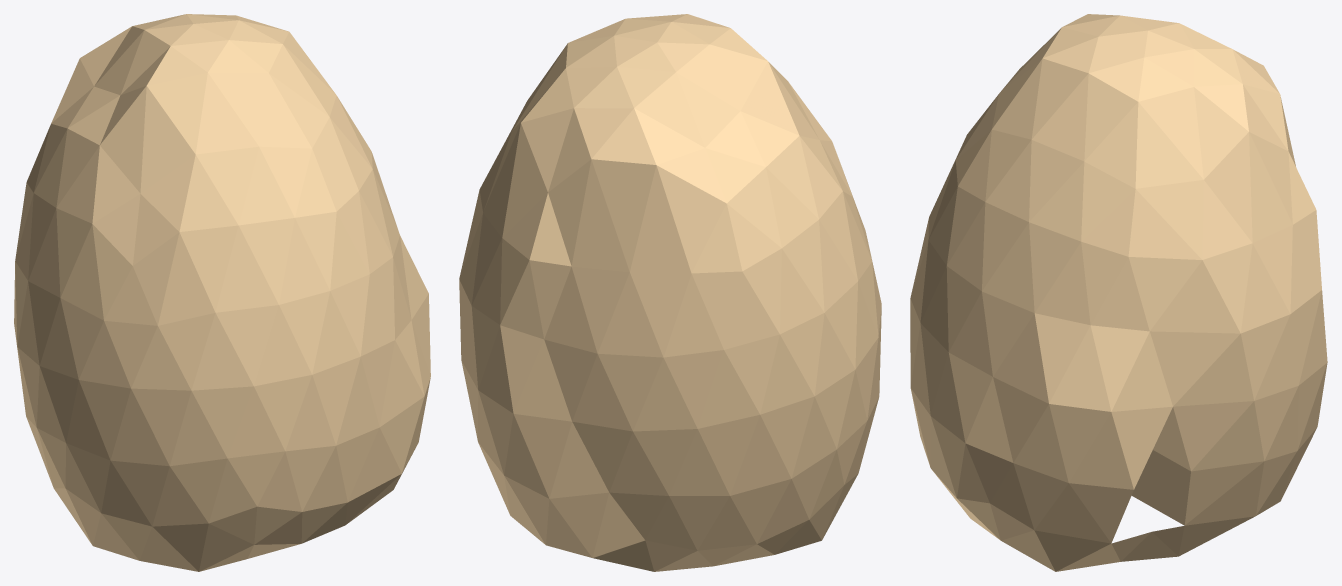
The model's file is huevito.fbx.
3 renders of one model, left to right at view 1: azimuth 30°, elevation 25°; view 2: azimuth 150°, elevation 25°; view 3: azimuth 270°, elevation 25°, orthographic. The views are drawn at different scales.
Parts seen in each view (by area): view 1: Icosphere.002; view 2: Icosphere.002; view 3: Icosphere.002.
Boxes of the visible parts, x1,y1,x2,y2 form: Icosphere.002: (14,14,430,571); Icosphere.002: (459,14,881,571); Icosphere.002: (910,14,1327,571).
Size of the model in its own units: 11867 by 14496 by 11572.
